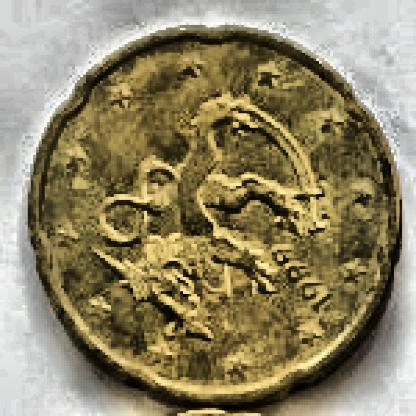coin: (28, 23, 407, 404)
